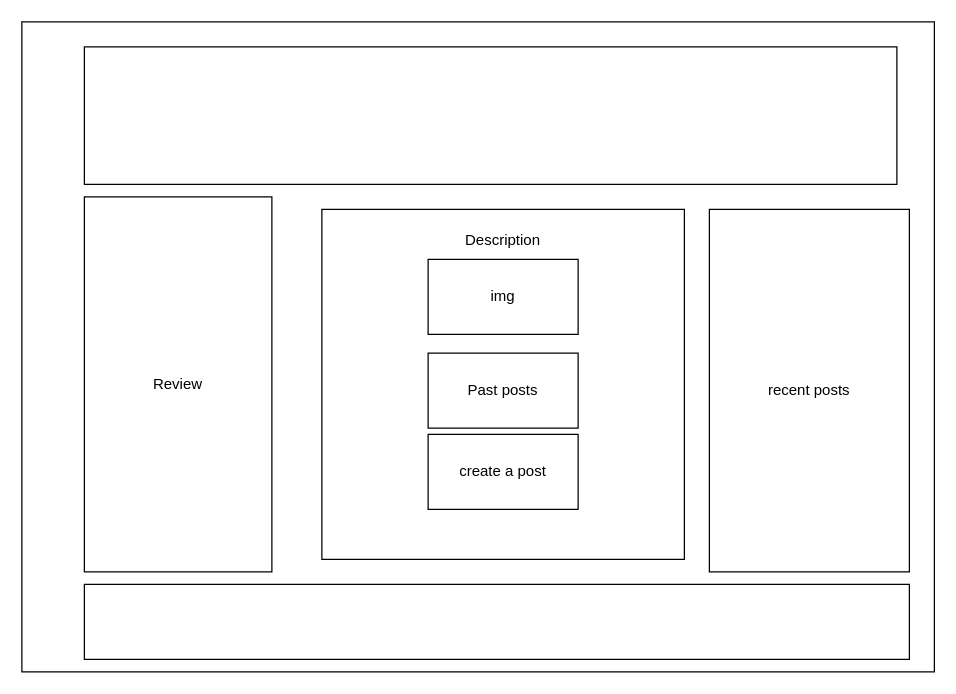
Image size: 956x694. Some labels were removed from this diagram. The shapes that lost their labels are listed below. From the top down, each one's centre as x and y in pixels, then its label:
At [490,115]: "Header".
At [496,621]: "footer".
